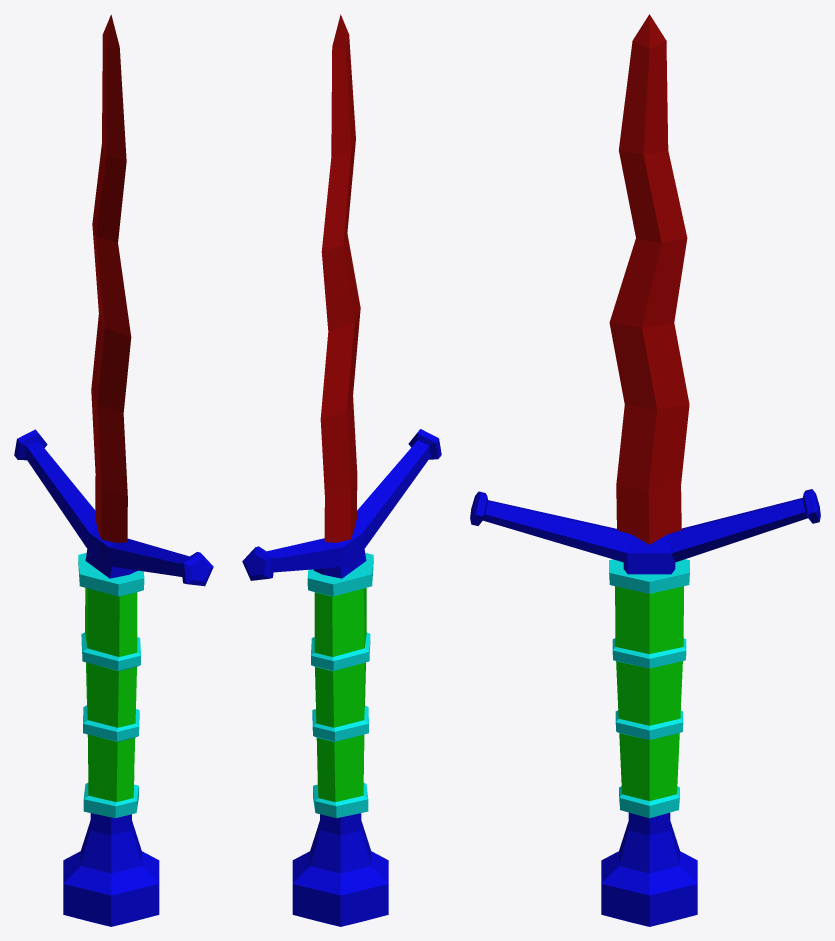
The model's file is Dagger_Uncommon_Assassin.fbx.
3 views of the same model, side by side, from view 1: azimuth 30°, elevation 25°; view 2: azimuth 150°, elevation 25°; view 3: azimuth 270°, elevation 25° (orthographic).
Visible parts, largest first — view 1: SM_Wep_Dagger_07; view 2: SM_Wep_Dagger_07; view 3: SM_Wep_Dagger_07.
Part boxes in pixels (x1=…): SM_Wep_Dagger_07: x1=14, y1=14, x2=213, y2=926; SM_Wep_Dagger_07: x1=242, y1=14, x2=441, y2=926; SM_Wep_Dagger_07: x1=470, y1=14, x2=820, y2=926.
Bounding box in the file's own units: 8.97 × 80.5 × 28.35.
